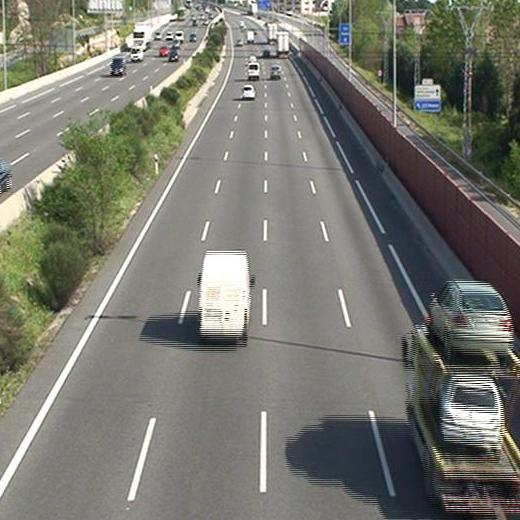car: (430, 280, 513, 354), (440, 374, 502, 449), (269, 65, 282, 78), (242, 85, 255, 98), (247, 54, 257, 62), (261, 48, 269, 57)
small-truck: (403, 323, 520, 511)
truck: (276, 31, 290, 58)
van: (198, 250, 251, 341), (247, 61, 259, 79)
